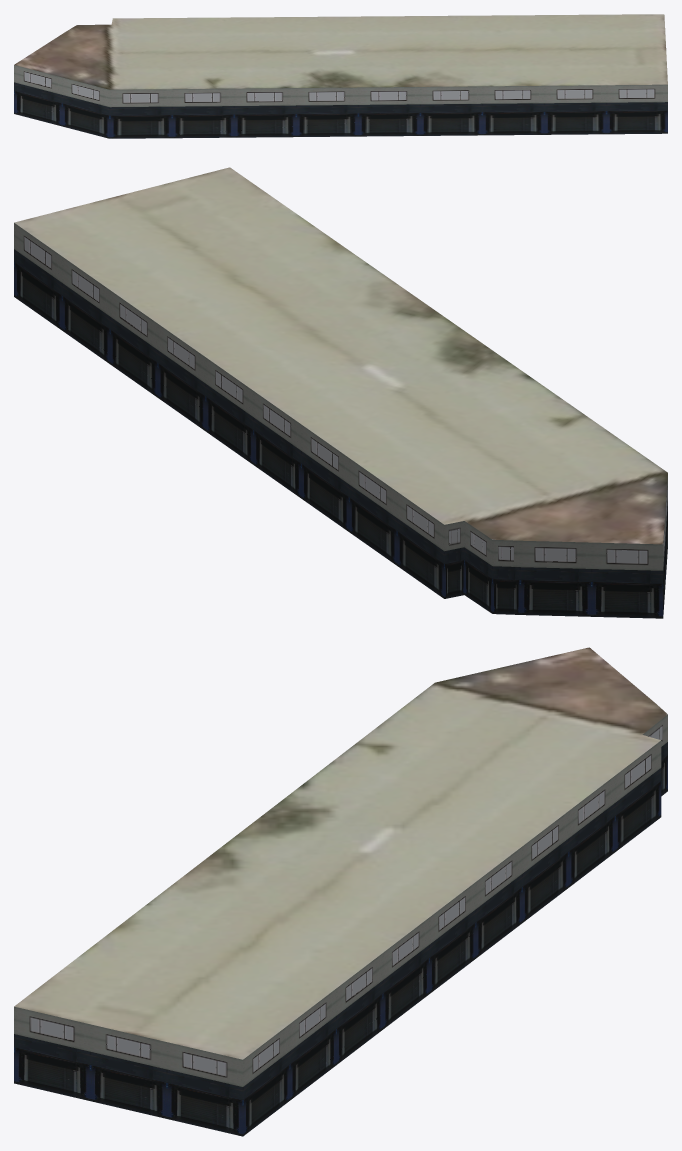
Rendered from T_1SXBN4NUE7.dae.
The picture shows the model from 3 angles, top to bottom: view 1: azimuth 30°, elevation 25°; view 2: azimuth 150°, elevation 25°; view 3: azimuth 270°, elevation 25°; orthographic projection. The views are drawn at different scales.
Visible parts, largest first — view 1: SketchUp (×5); view 2: SketchUp (×10); view 3: SketchUp (×5).
Part boxes in pixels (x1,y1,x2,y2): SketchUp (×5): [14, 14, 667, 138]; SketchUp (×10): [14, 167, 667, 618]; SketchUp (×5): [14, 647, 667, 1136].
Bounding box in the file's own units: 58.92 × 39.48 × 5.12.
Materials: 3 (3 with a texture image).
